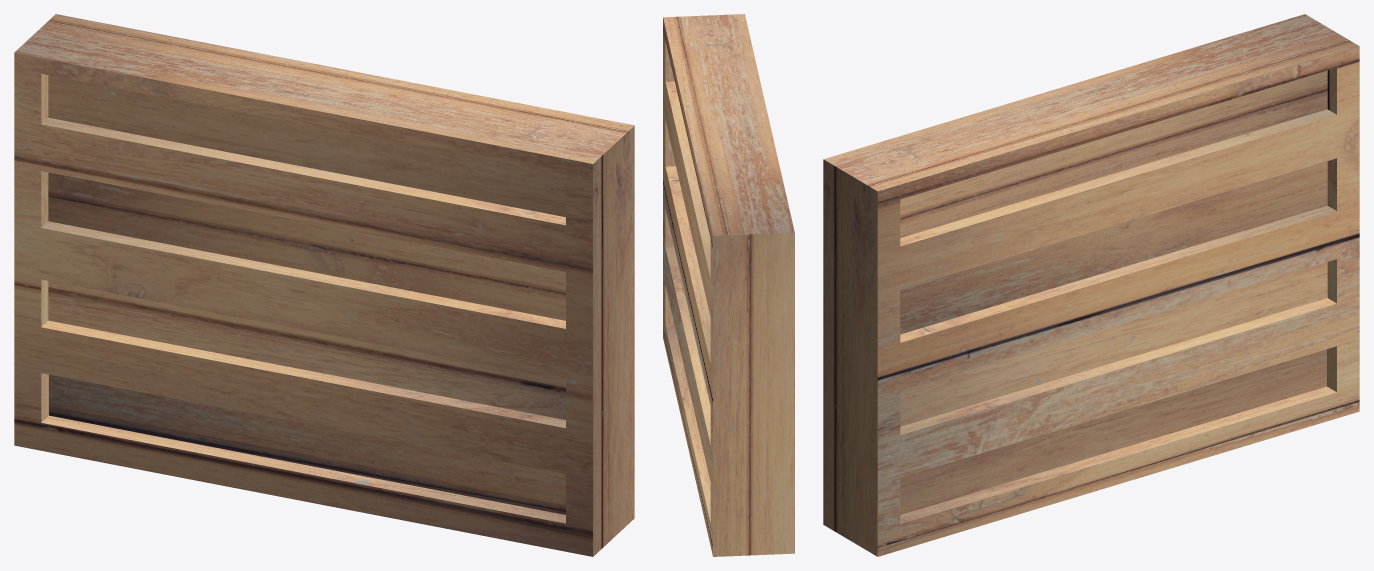
Rendered from shelf2.fbx.
3 views of the same model, side by side, from view 1: azimuth 30°, elevation 25°; view 2: azimuth 150°, elevation 25°; view 3: azimuth 270°, elevation 25° (orthographic). The views are drawn at different scales.
Parts seen in each view (by area): view 1: Shelf2; view 2: Shelf2; view 3: Shelf2.
Boxes of the visible parts, <box> form: Shelf2: <box>14,14,634,556</box>; Shelf2: <box>663,14,794,556</box>; Shelf2: <box>823,14,1359,556</box>.
Size of what is drawn, in the model's own units: 7.32 by 7.03 by 9.35.
